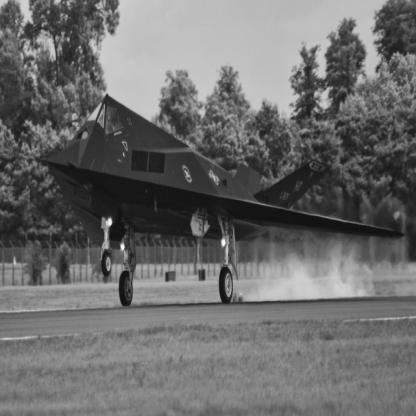F117: (38, 94, 407, 307)
